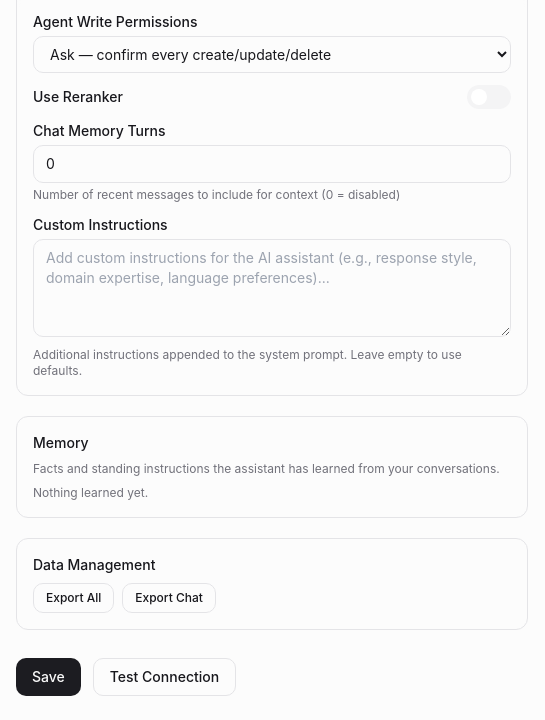
Test: SettingsPage — Export UI › shows export success message after Export All
(page scrolled)
Step 1. Click the button with test id "export-all-button" → (74, 598), box [33, 583, 114, 613]
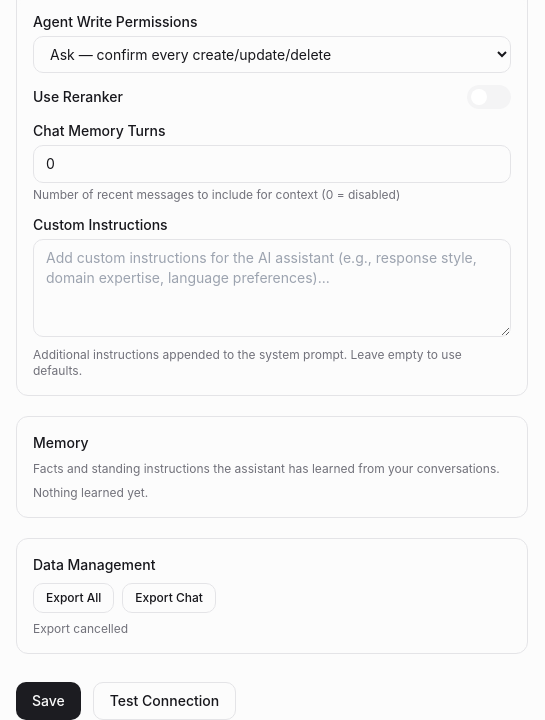
Expected: the text "Export cancelled" is shown, [33, 621, 128, 636]
